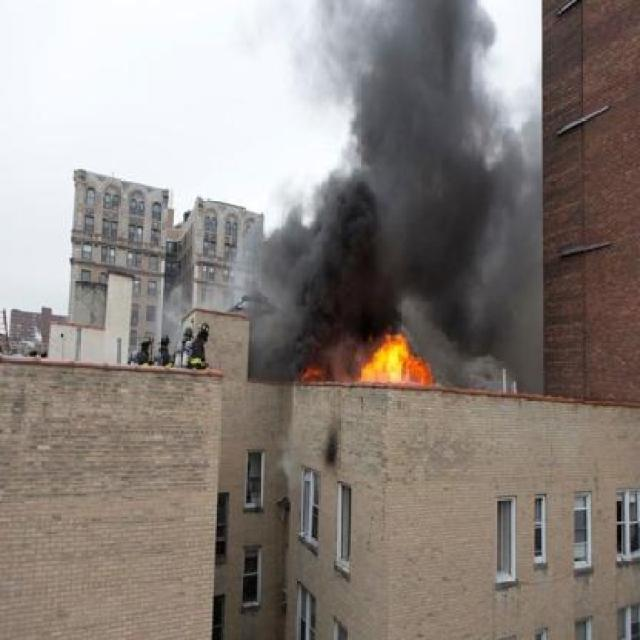Fire: (360, 328, 440, 390), (302, 354, 326, 382)
Smoke: (318, 6, 552, 333), (256, 210, 318, 350)
